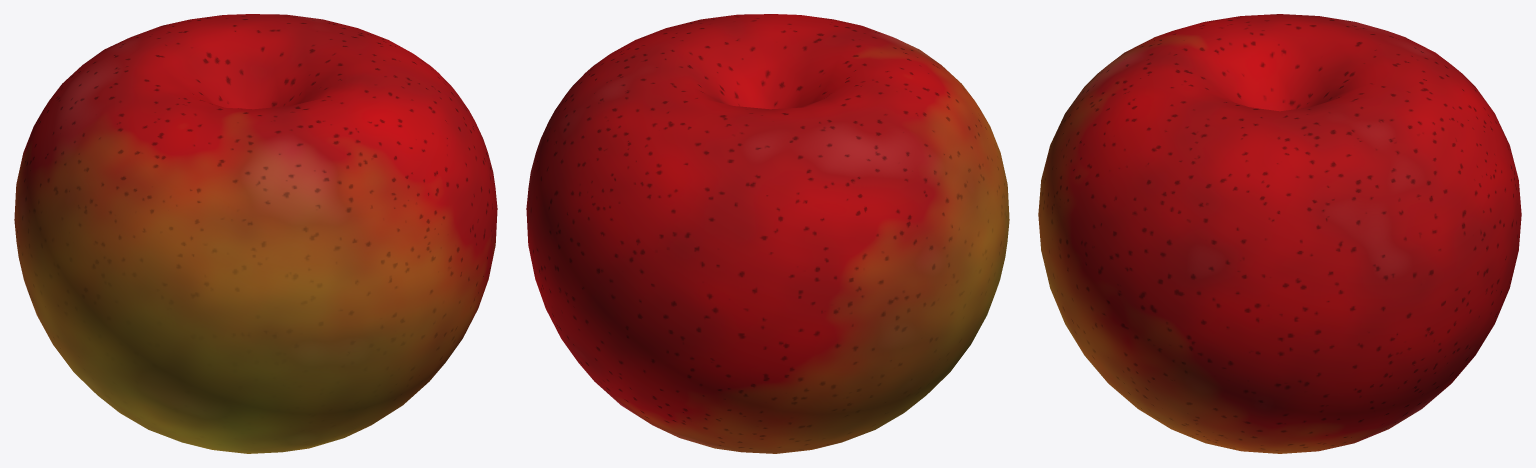
3 renders of one model, left to right at view 1: azimuth 30°, elevation 25°; view 2: azimuth 150°, elevation 25°; view 3: azimuth 270°, elevation 25°, orthographic.
Parts seen in each view (by area): view 1: Icosphere; view 2: Icosphere; view 3: Icosphere.
Boxes of the visible parts, x1,y1,x2,y2 form: Icosphere: (14, 14, 497, 453); Icosphere: (526, 14, 1009, 453); Icosphere: (1038, 14, 1521, 453).
Size of the model in its own units: 2 by 1.57 by 2.
Materials: 1 (1 with a texture image).
